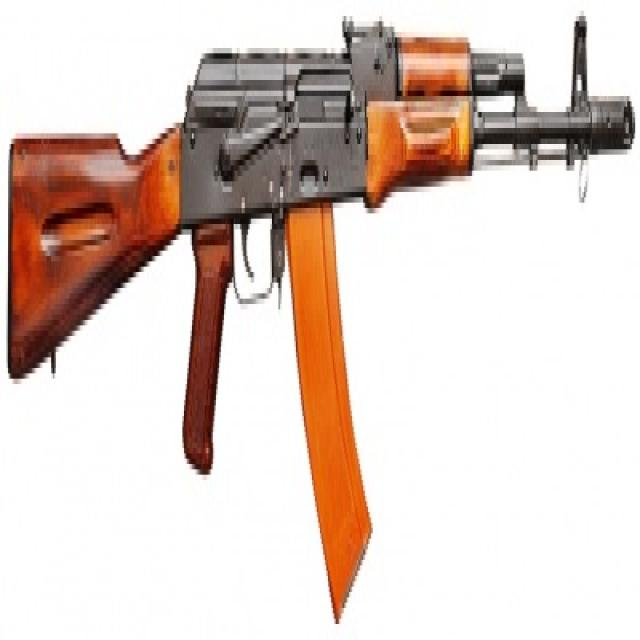rifle: (1, 1, 634, 630)
